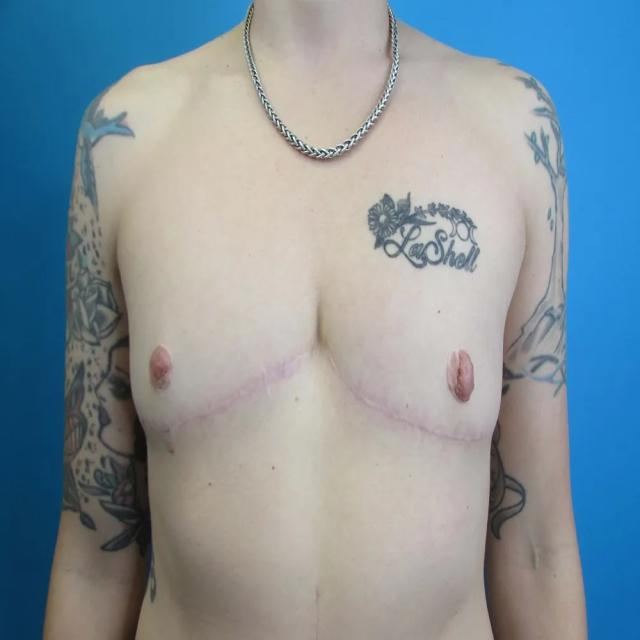Seno herido: (322, 276, 508, 461), (124, 274, 312, 453)
